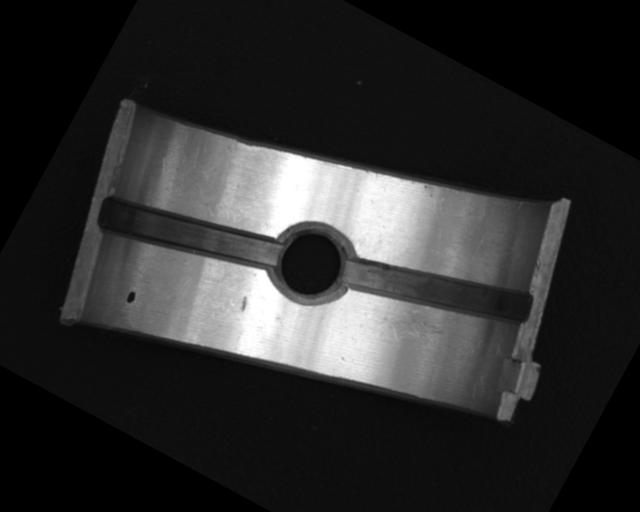blot: (122, 287, 139, 306)
bruise: (235, 294, 250, 313)
gap: (336, 213, 536, 369), (92, 160, 284, 309)
hole: (255, 211, 366, 321)
scratch: (365, 292, 460, 368)
